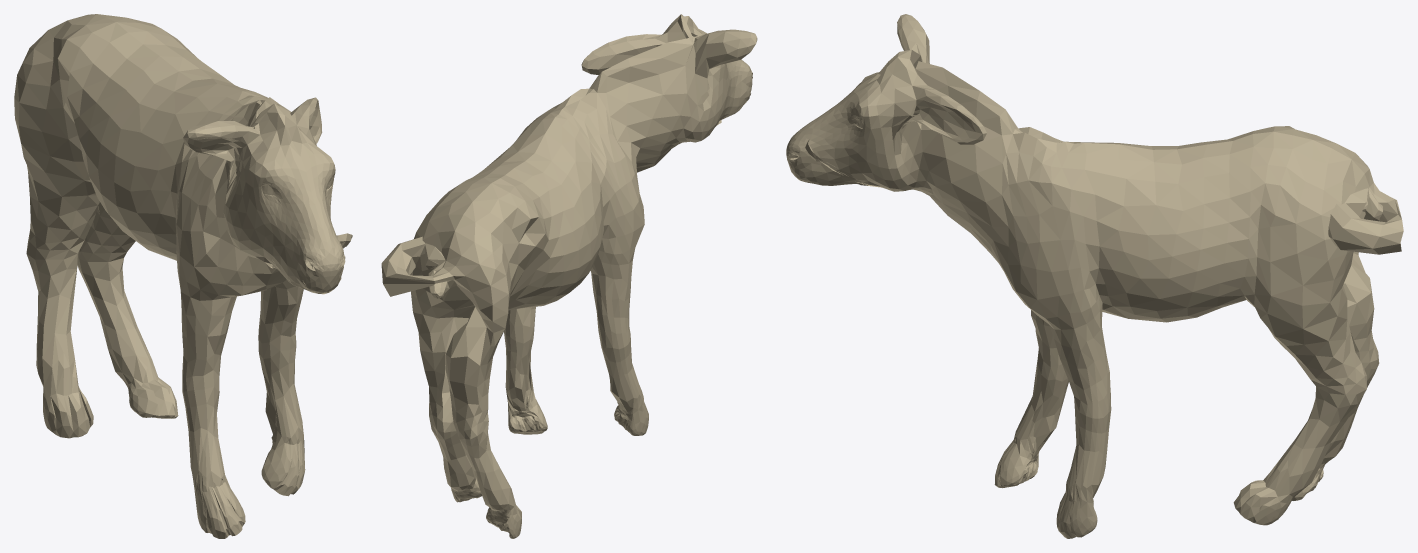
The picture shows the model from 3 angles, left to right: view 1: azimuth 30°, elevation 25°; view 2: azimuth 150°, elevation 25°; view 3: azimuth 270°, elevation 25°; orthographic projection. The views are drawn at different scales.
Parts seen in each view (by area): view 1: world; view 2: world; view 3: world.
Part boxes in pixels (x1,y1,x2,y2): world: (14,14,352,538); world: (381,14,757,538); world: (786,14,1403,538).
Bounding box in the file's own units: 0.672 × 1.39 × 1.73.
